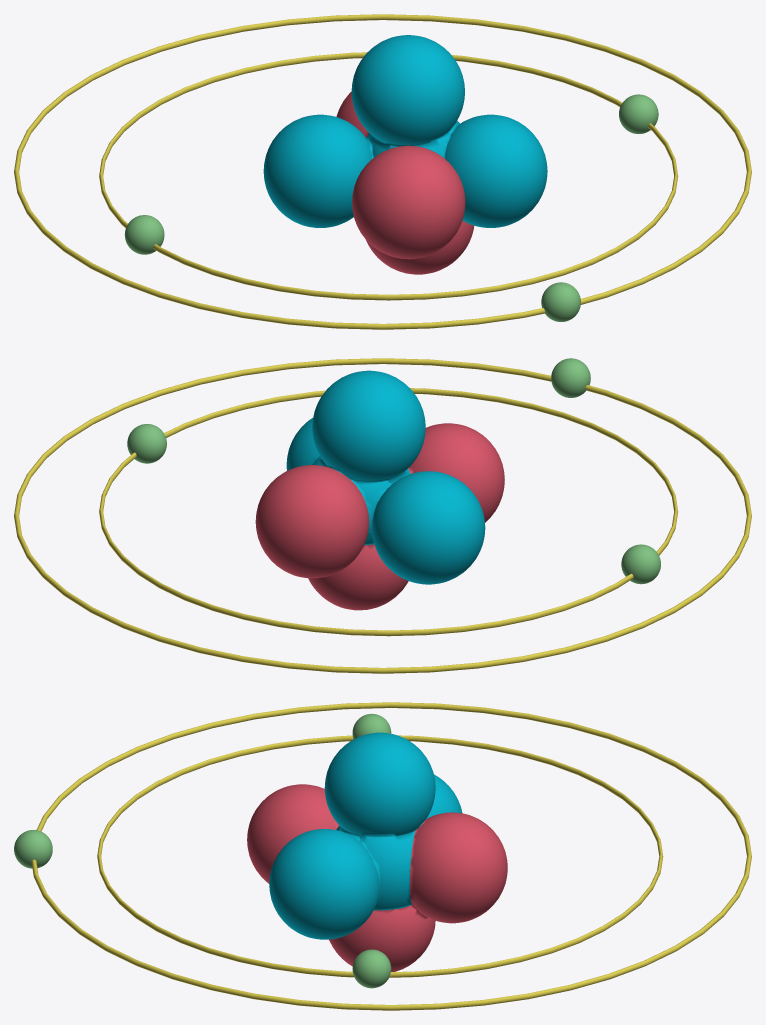
Rendered from lithium-Borh-NPC-GLP.glb.
3 views of the same model, one above another, from view 1: azimuth 30°, elevation 25°; view 2: azimuth 150°, elevation 25°; view 3: azimuth 270°, elevation 25° (orthographic). The views are drawn at different scales.
Visible parts, largest first — view 1: Mesh_Mesh_head_geo.001_lambert2SG.001; view 2: Mesh_Mesh_head_geo.001_lambert2SG.001; view 3: Mesh_Mesh_head_geo.001_lambert2SG.001.
Part boxes in pixels (left/top/right/bottom): Mesh_Mesh_head_geo.001_lambert2SG.001: left=14, top=14, right=751, bottom=329; Mesh_Mesh_head_geo.001_lambert2SG.001: left=14, top=358, right=751, bottom=673; Mesh_Mesh_head_geo.001_lambert2SG.001: left=14, top=702, right=751, bottom=1010.
Bounding box in the file's own units: 1.95 × 0.6767 × 2.
